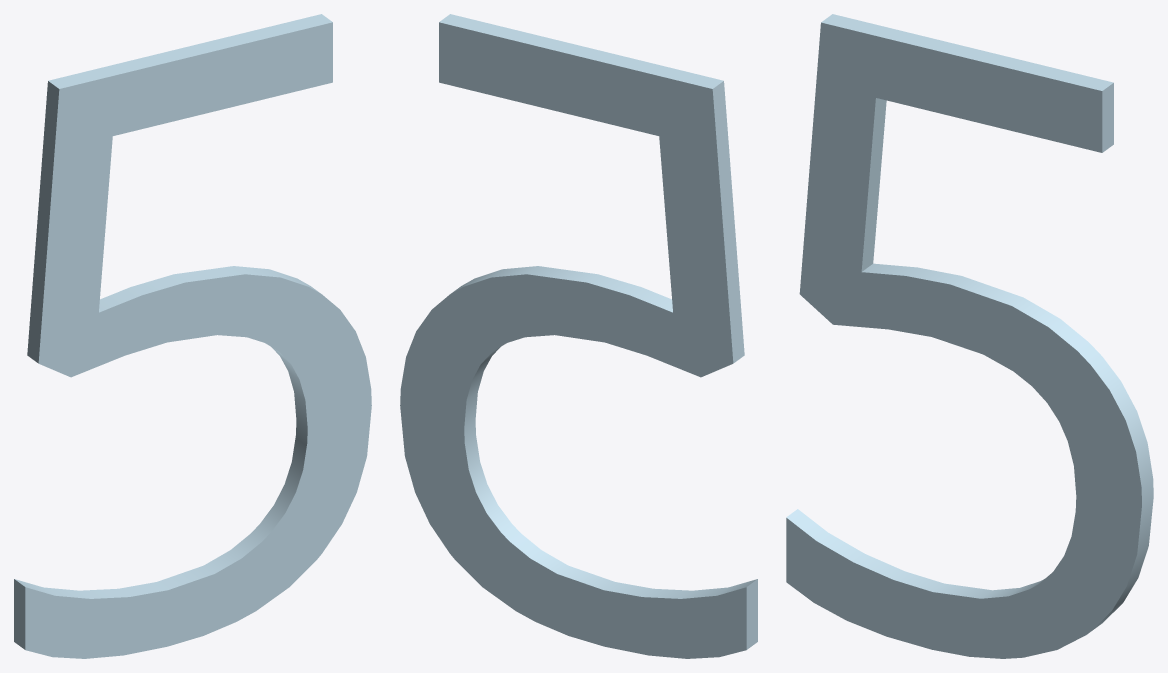
3 views of the same model, side by side, from view 1: azimuth 30°, elevation 25°; view 2: azimuth 150°, elevation 25°; view 3: azimuth 330°, elevation 25° (orthographic). The views are drawn at different scales.
Visible parts, largest first — view 1: 5; view 2: 5; view 3: 5.
Boxes of the visible parts, x1=… form: 5: x1=14, y1=14, x2=371, y2=658; 5: x1=400, y1=14, x2=757, y2=658; 5: x1=786, y1=14, x2=1153, y2=658.
Bounding box in the file's own units: 0.0353 × 0.0569 × 0.002.
